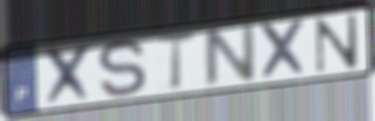N: (200, 21, 258, 91), (313, 11, 360, 75)
S: (95, 37, 149, 102)
T: (153, 29, 199, 93)
X: (255, 17, 312, 82), (43, 41, 96, 109)
